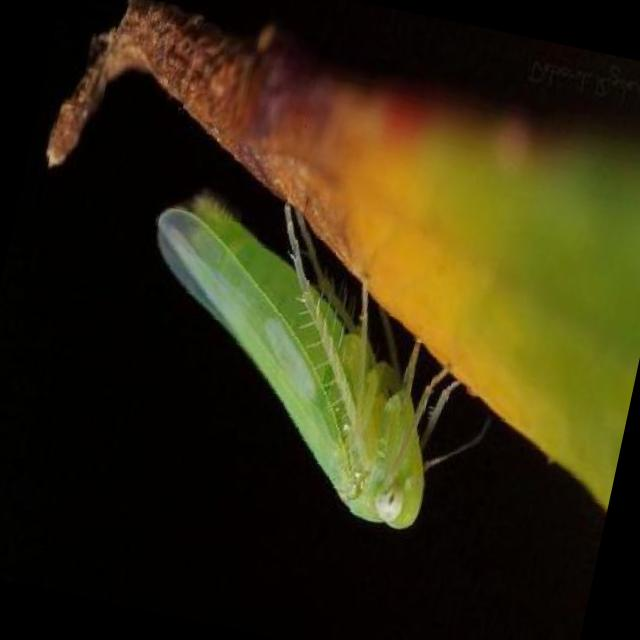green-leafhopper: (155, 193, 464, 530)
